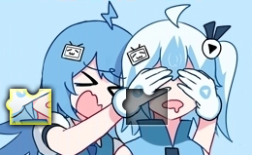gap: (121, 89, 167, 124)
